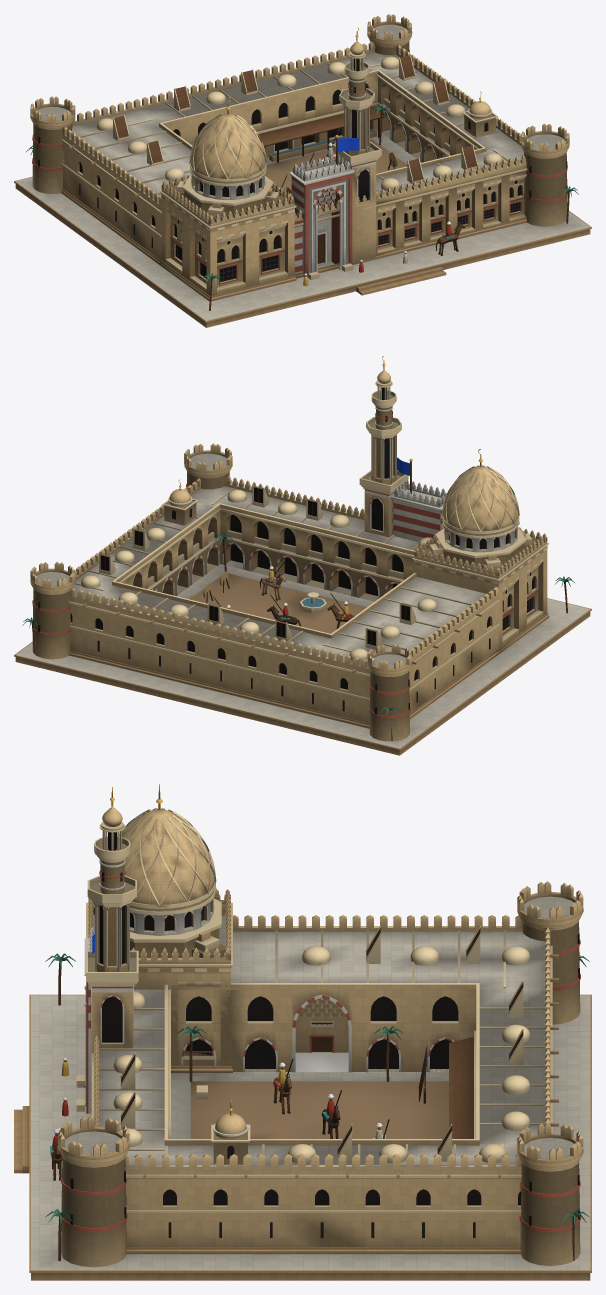
The model's file is lm_memlukkisla.glb.
3 renders of one model, top to bottom at view 1: azimuth 30°, elevation 25°; view 2: azimuth 150°, elevation 25°; view 3: azimuth 270°, elevation 25°, orthographic. The views are drawn at different scales.
Visible parts, largest first — view 1: lm_memlukkisla; view 2: lm_memlukkisla; view 3: lm_memlukkisla.
Part boxes in pixels (<box>): lm_memlukkisla: <box>14,14,591,327</box>; lm_memlukkisla: <box>14,356,591,755</box>; lm_memlukkisla: <box>14,784,591,1280</box>.
Size of the model in its own units: 2.29 by 1.34 by 2.03.
1 material, 1 textured.
